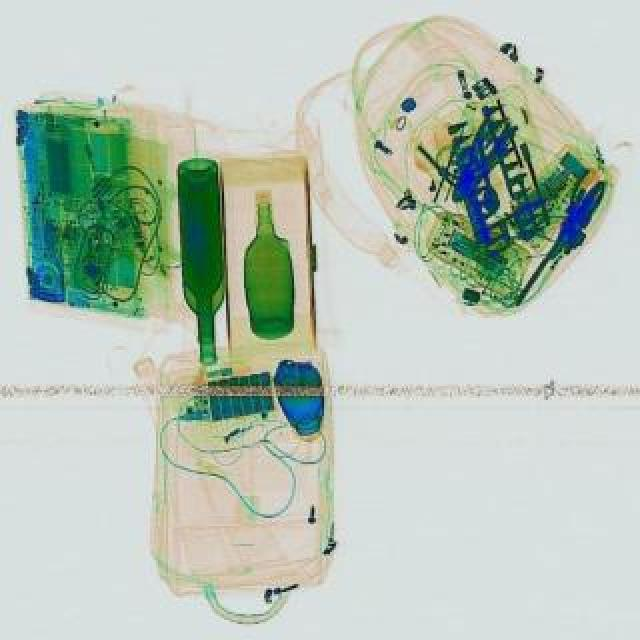wrench: (440, 116, 516, 212), (538, 172, 610, 268)
